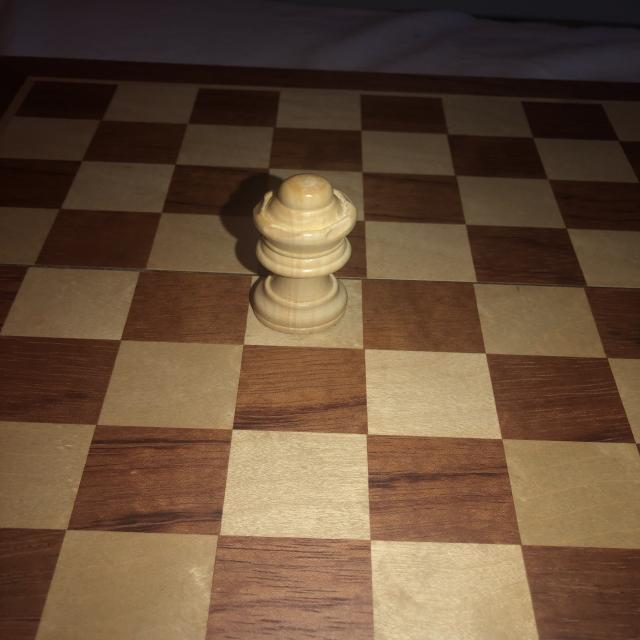white_queen: (248, 174, 358, 334)
